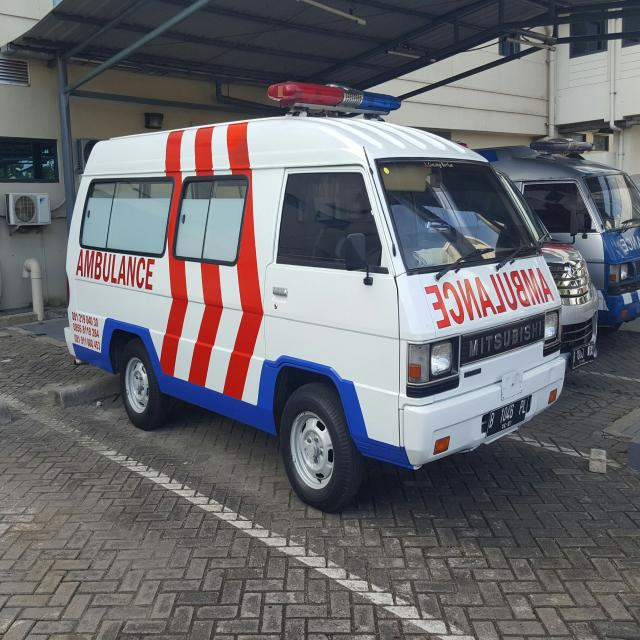ambulance: (63, 80, 568, 517)
